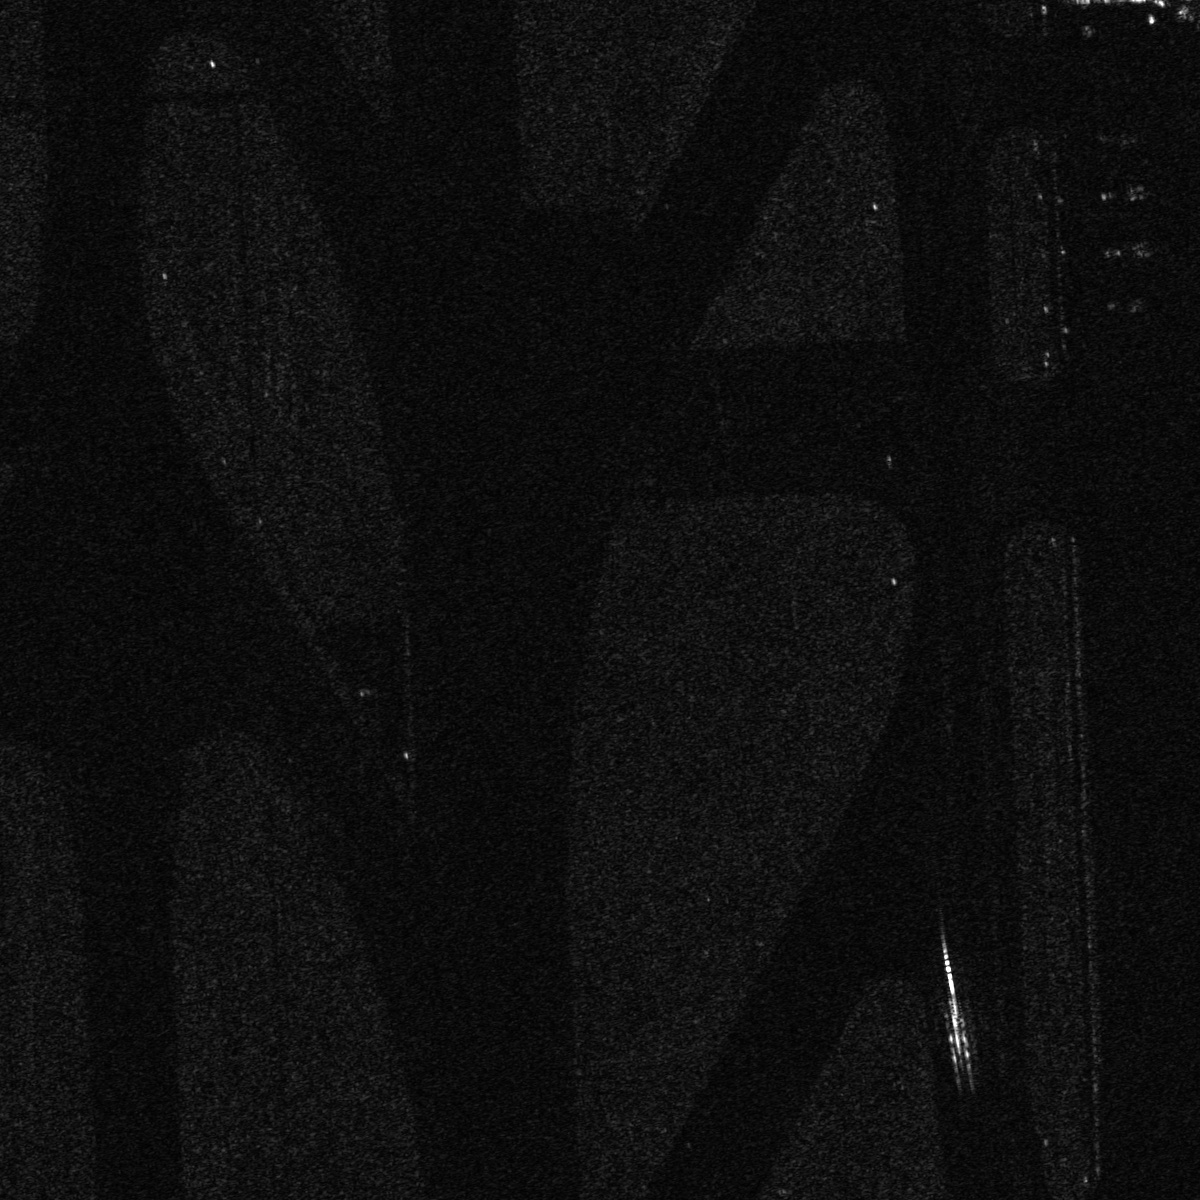ARJ21: (1093, 237, 1163, 266), (1101, 290, 1155, 319)
other: (1096, 175, 1157, 210)
